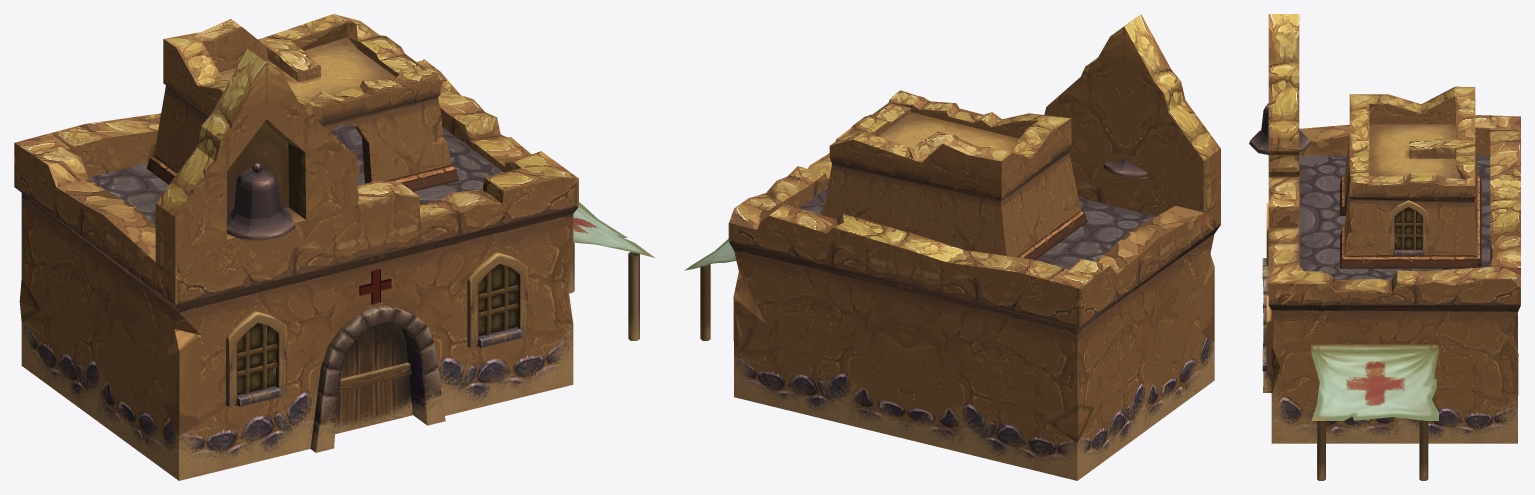
Rendered from fangzi01.FBX.
3 renders of one model, left to right at view 1: azimuth 30°, elevation 25°; view 2: azimuth 150°, elevation 25°; view 3: azimuth 270°, elevation 25°, orthographic. The views are drawn at different scales.
Parts seen in each view (by area): view 1: 对象046; view 2: 对象046; view 3: 对象046.
Part boxes in pixels (x1,y1,x2,y2): 对象046: (14,14,654,480); 对象046: (684,14,1220,480); 对象046: (1249,14,1520,480).
Bounding box in the file's own units: 369 × 277 × 219.
